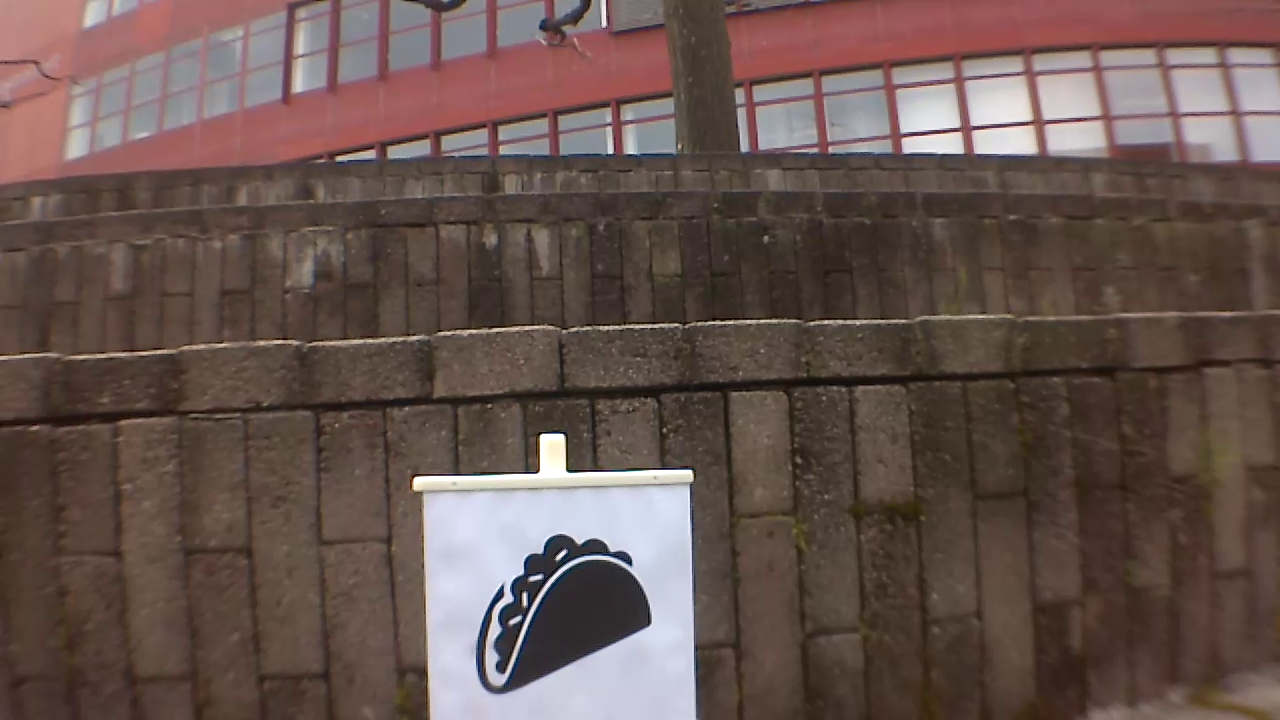taco: (472, 523, 664, 703)
